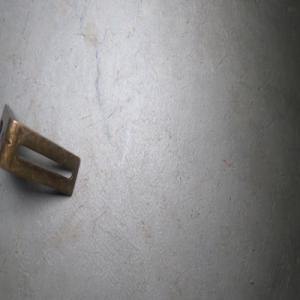MetalPart: (0, 102, 81, 198)
